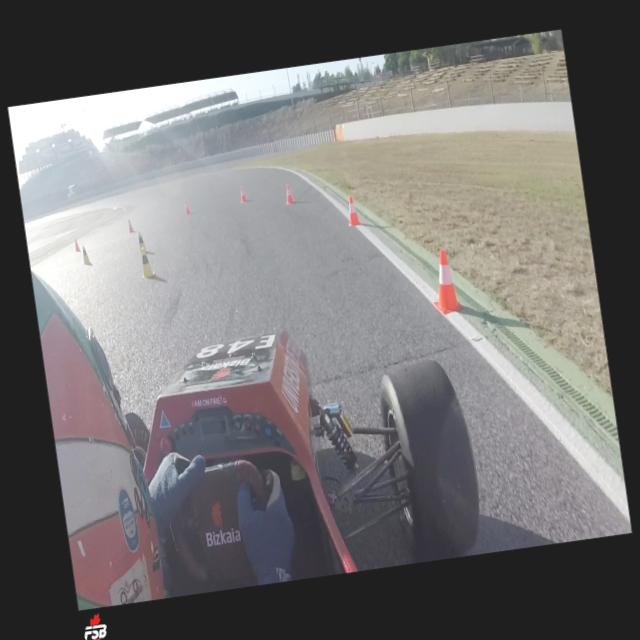orange_cone: (426, 246, 465, 316), (344, 194, 362, 227), (284, 183, 294, 204), (239, 186, 247, 202), (184, 200, 192, 215), (128, 219, 134, 233), (74, 238, 80, 252)
yellow_cone: (138, 246, 156, 279), (136, 231, 148, 255), (80, 244, 92, 267)
